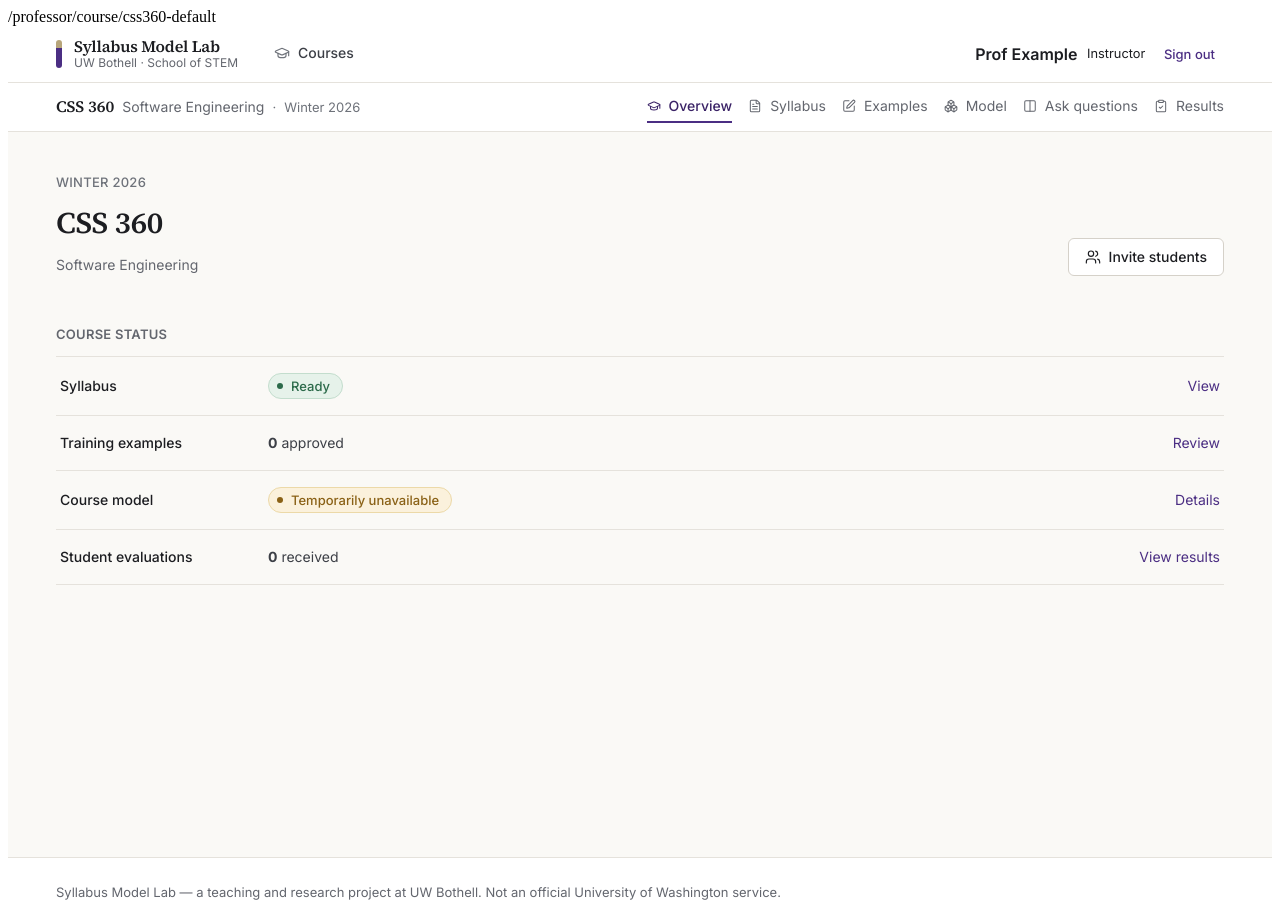
Test: instructor course isolation and the Ask questions tab › offers Ask questions in the course navigation, with the not-saved note, without a class code
Click the link "Ask questions": (1080, 106) [1023,97,1138,114]
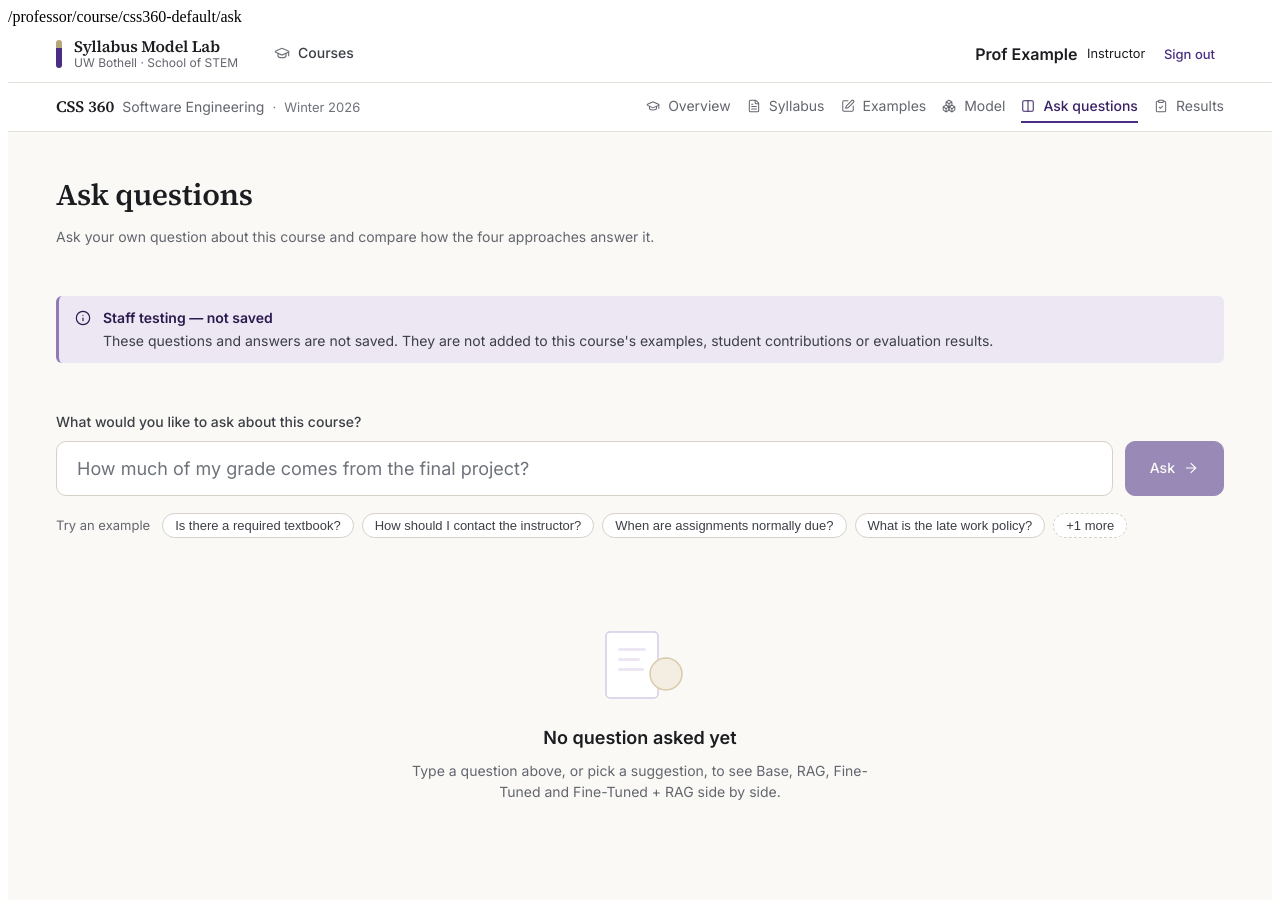
expect the text "Staff testing — not saved" is shown: met, box [103,309,273,326]
